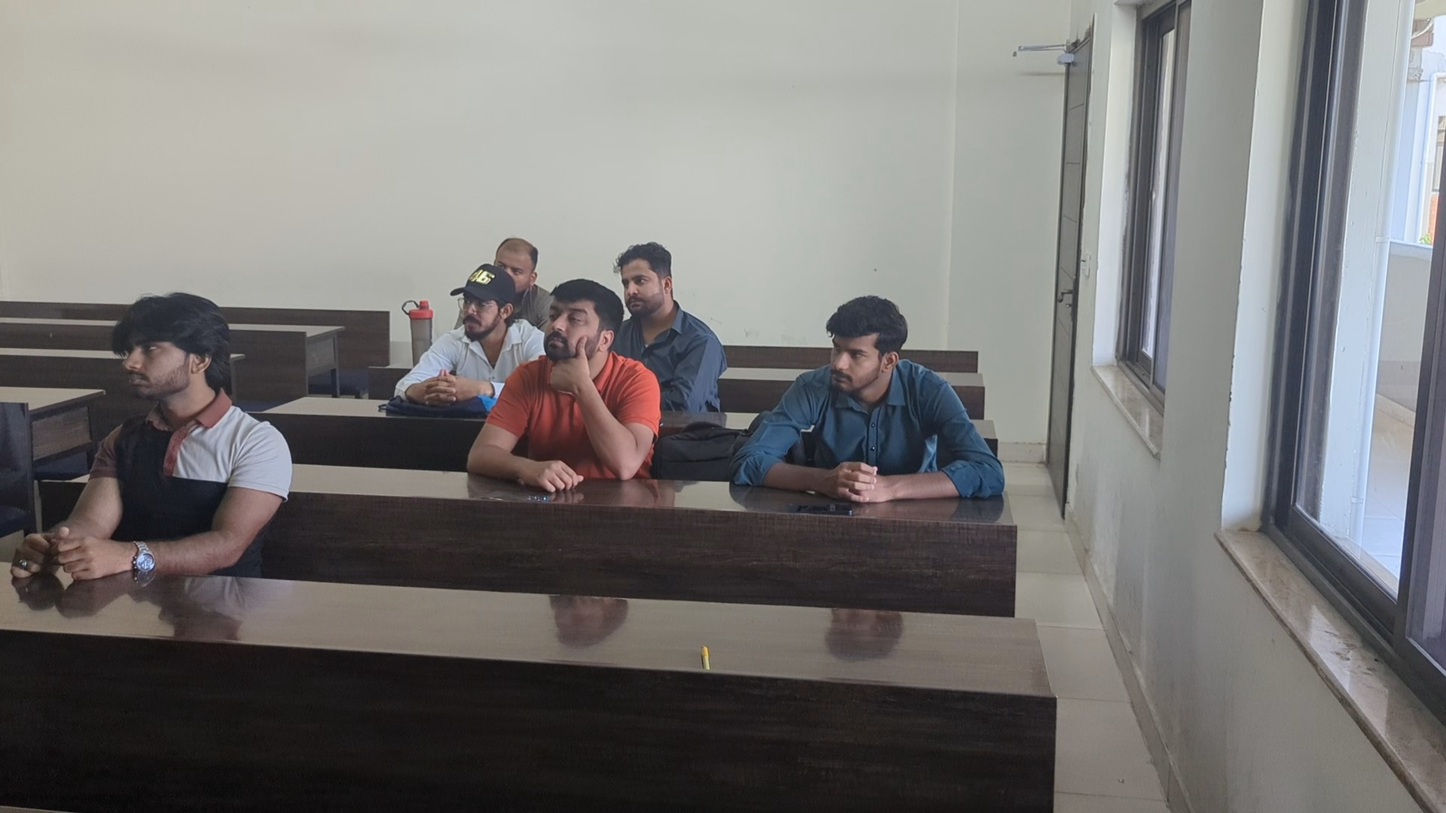look_forward: (10, 288, 294, 580), (727, 293, 1004, 503), (464, 279, 663, 495), (611, 240, 728, 418), (393, 263, 515, 403), (493, 240, 552, 315)
